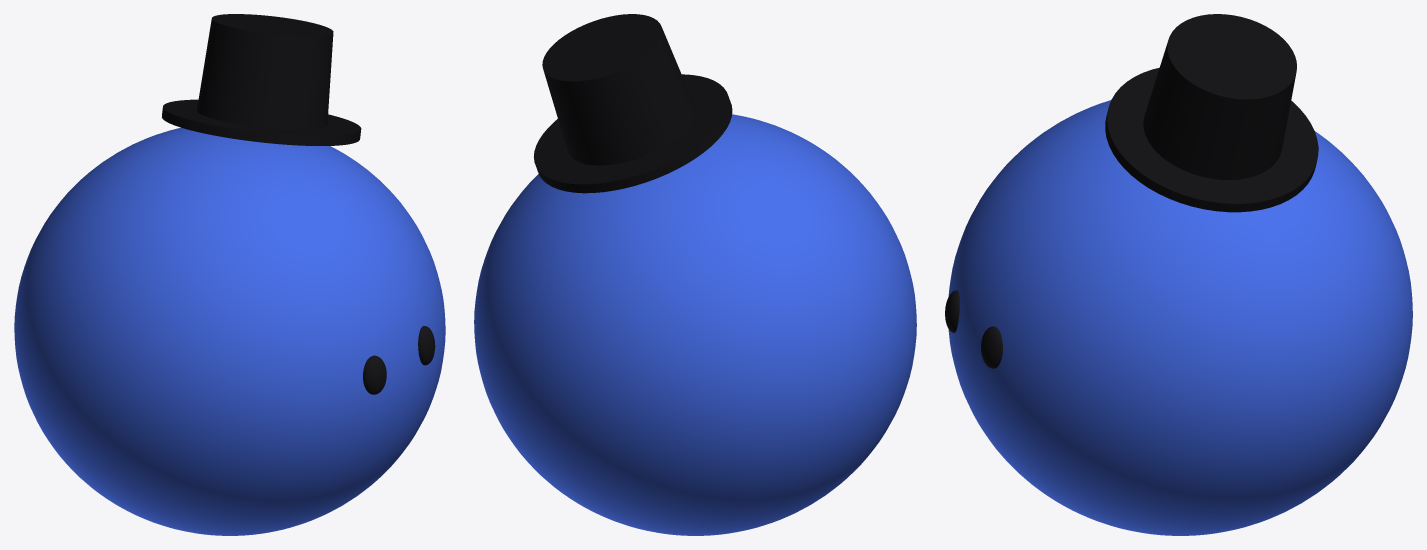
The model's file is bob.glb.
3 renders of one model, left to right at view 1: azimuth 30°, elevation 25°; view 2: azimuth 150°, elevation 25°; view 3: azimuth 270°, elevation 25°, orthographic. The views are drawn at different scales.
Parts seen in each view (by area): view 1: shape, hat, bead (×2); view 2: shape, hat; view 3: shape, hat, bead.
Boxes of the visible parts, bbox=[...] form: shape: bbox=[14, 127, 445, 535]; hat: bbox=[162, 14, 361, 145]; bead (×2): bbox=[363, 326, 435, 394]; shape: bbox=[474, 114, 916, 535]; hat: bbox=[534, 14, 732, 193]; shape: bbox=[948, 100, 1412, 535]; hat: bbox=[1105, 14, 1318, 212]; bead: bbox=[981, 326, 1002, 368].
Bounding box in the file's own units: 1.9 × 2.3 × 1.91.
